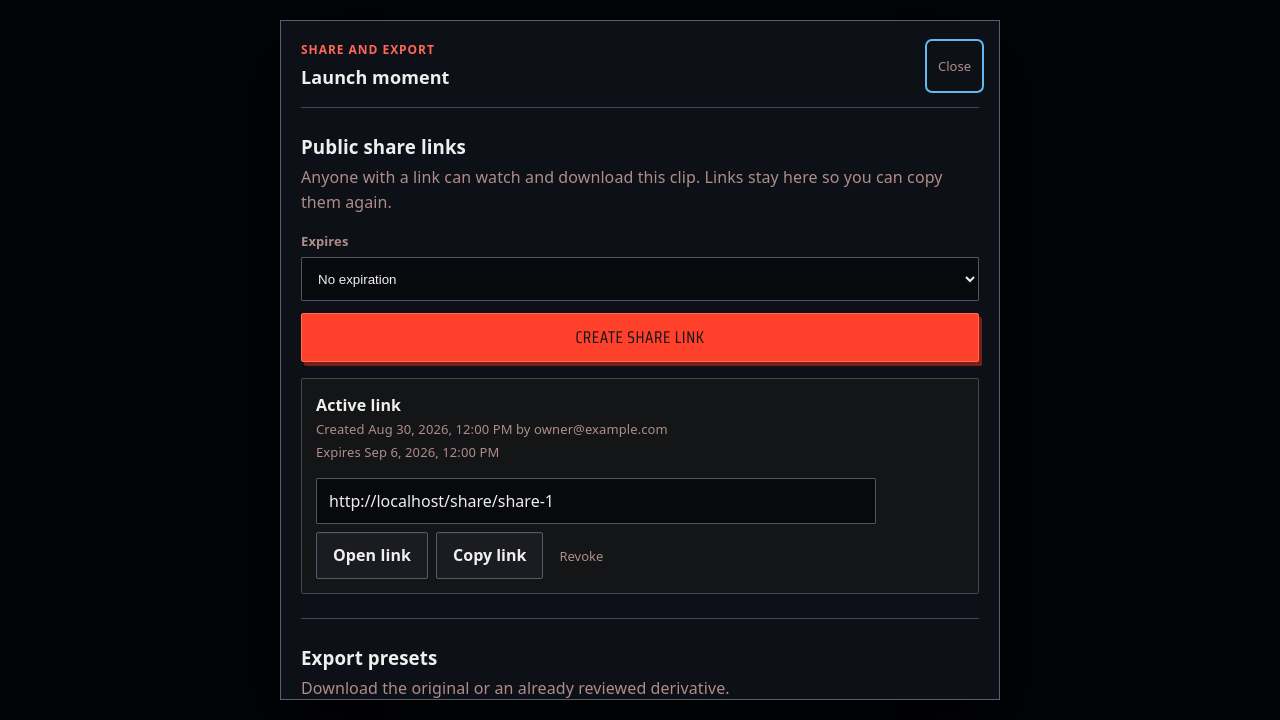
Scenario: ClipDistributionModal › revokes an active share and starts the GIF preset
Expected: the heading "Public share links" is shown, [301, 134, 466, 160]
Click the button "Revoke" at (581, 556), box [551, 534, 611, 578]
(page scrolled)
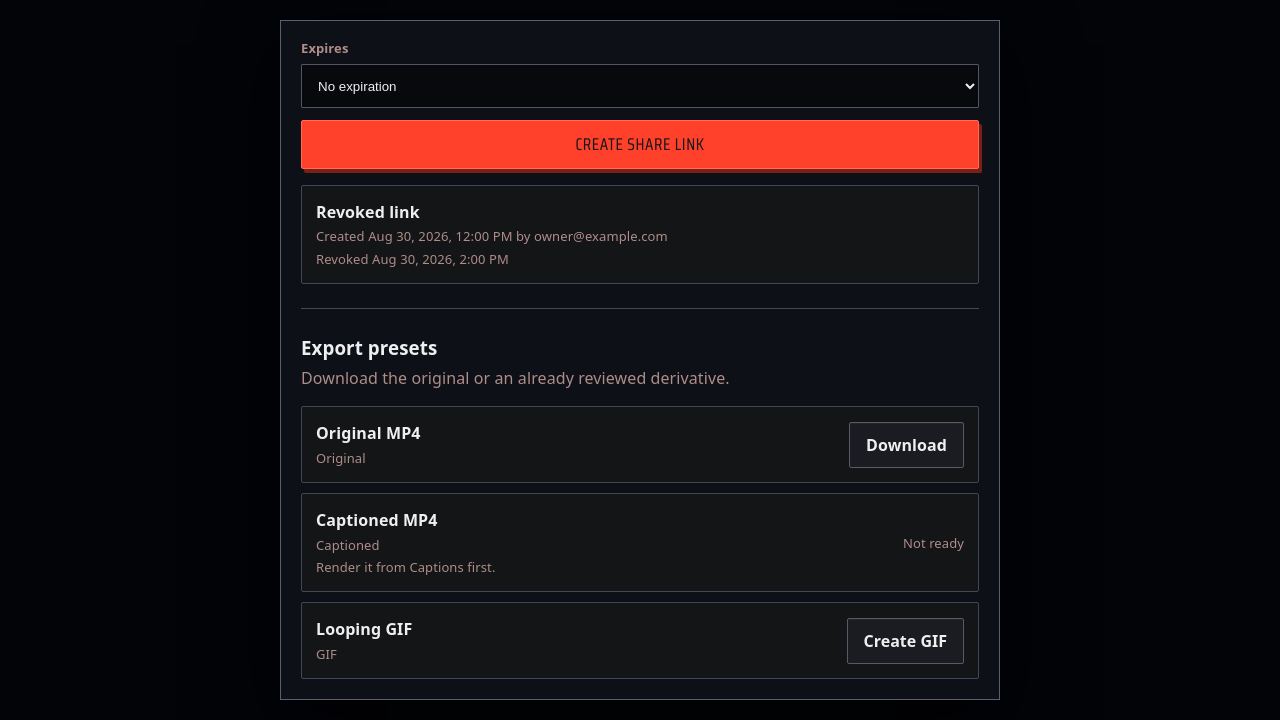
Result: the text "Revoked link" is shown at [316, 201, 420, 223]
Click the button "Create GIF" at (905, 641), box [847, 618, 964, 664]
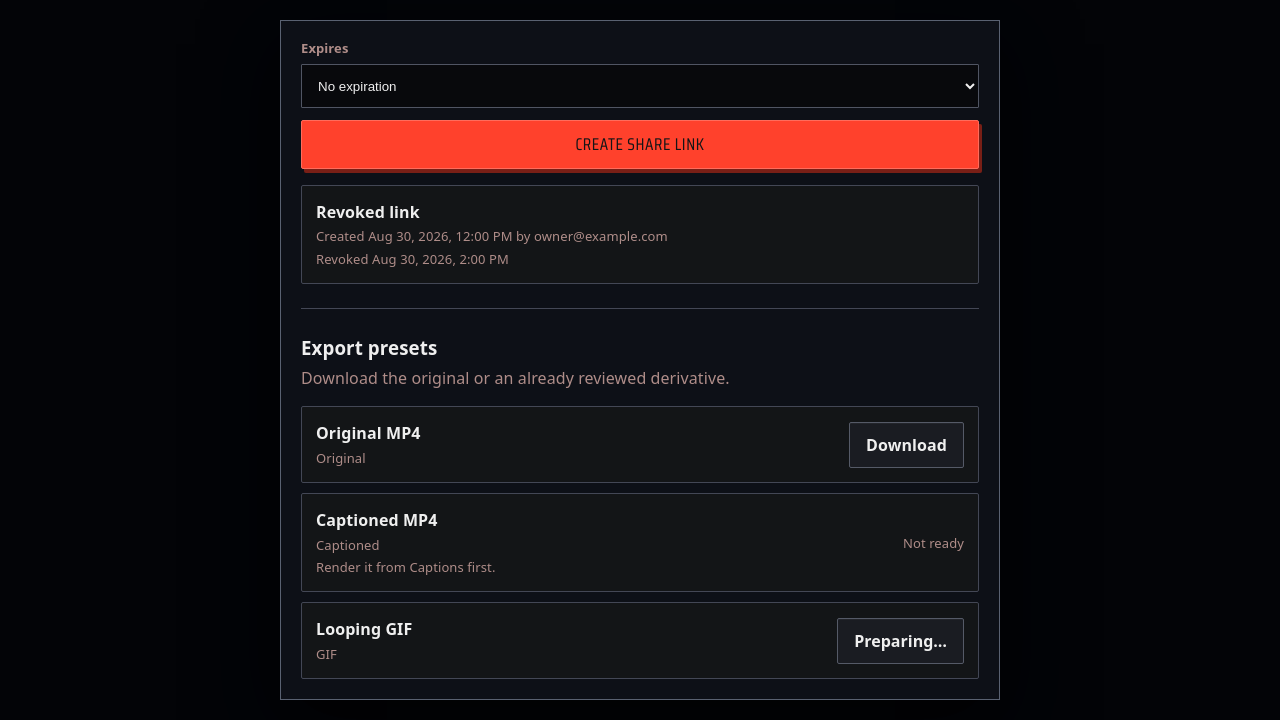
Result: the button "Preparing…" is shown at [837, 618, 964, 664]
